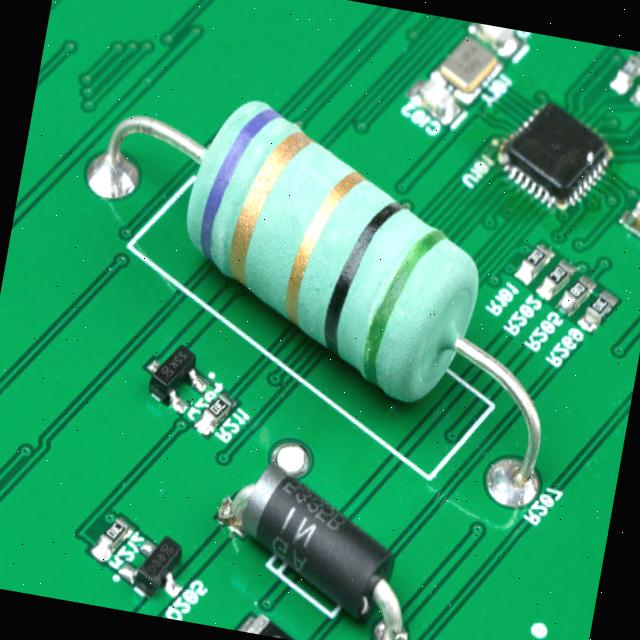diode: (210, 452, 418, 612)
resistor: (179, 95, 492, 389)
